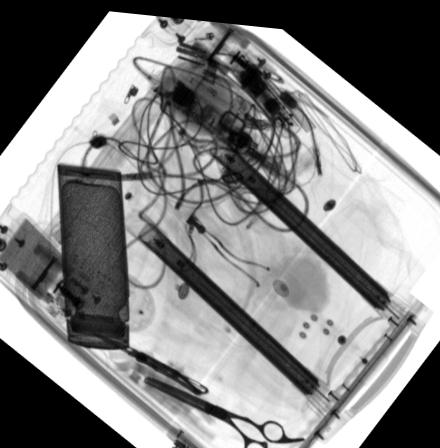Knife: (87, 330, 214, 394)
Powerbank: (0, 212, 98, 323)
Scissors: (141, 370, 306, 448)
